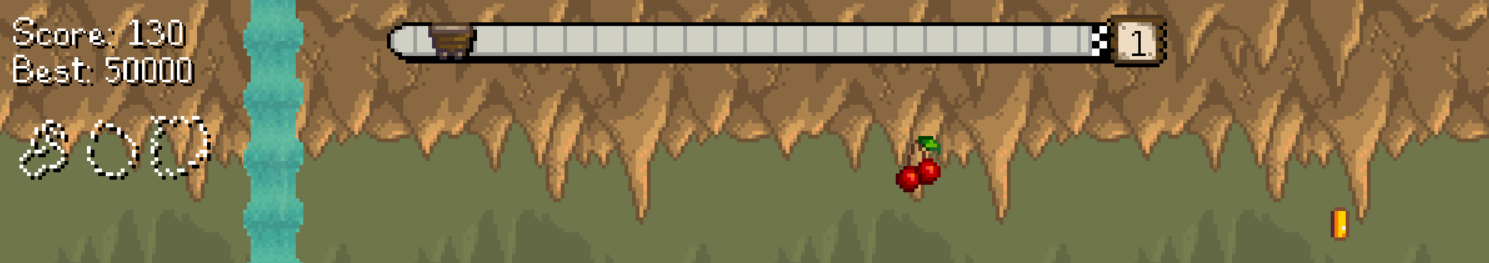cherry: (890, 130, 949, 195)
coins: (1330, 207, 1348, 240)
score: (125, 14, 187, 49)
